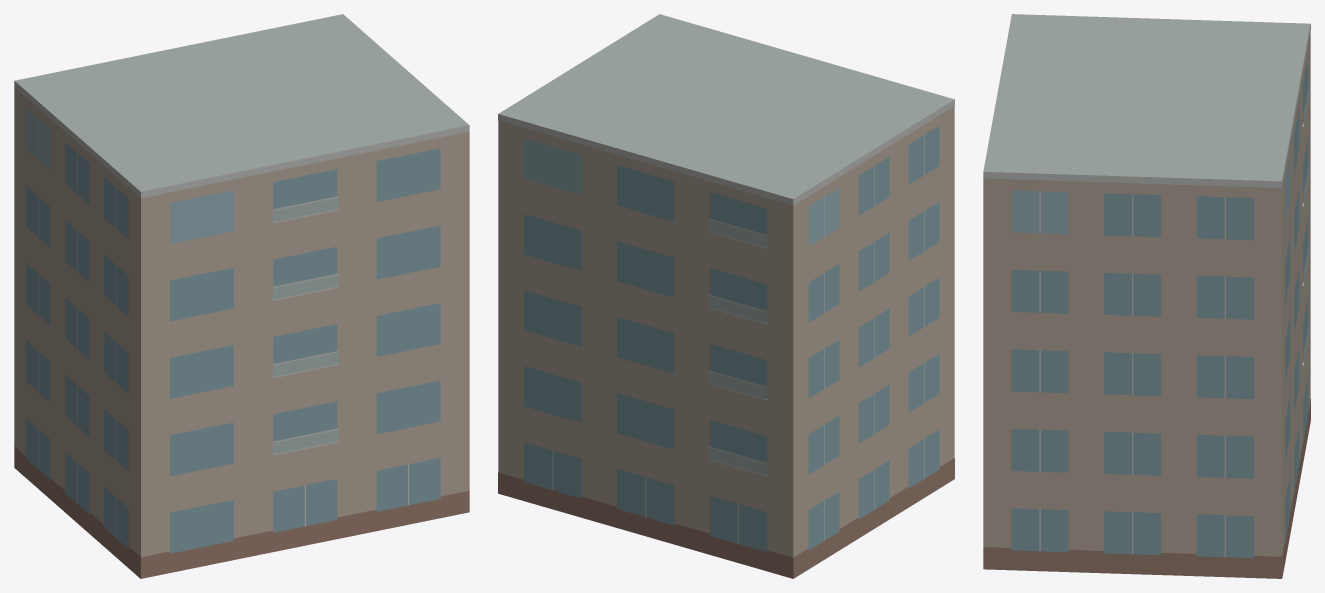
File: survey-upis-32721379.glb
3 renders of one model, left to right at view 1: azimuth 30°, elevation 25°; view 2: azimuth 150°, elevation 25°; view 3: azimuth 270°, elevation 25°, orthographic. The views are drawn at different scales.
Visible parts, largest first — view 1: survey-upis-32721379.tmp; view 2: survey-upis-32721379.tmp; view 3: survey-upis-32721379.tmp.
Boxes of the visible parts, x1,y1,x2,y2 form: survey-upis-32721379.tmp: [14, 14, 469, 578]; survey-upis-32721379.tmp: [498, 14, 954, 578]; survey-upis-32721379.tmp: [983, 14, 1310, 578].
Size of the model in its own units: 13.1 by 14.5 by 10.84.
